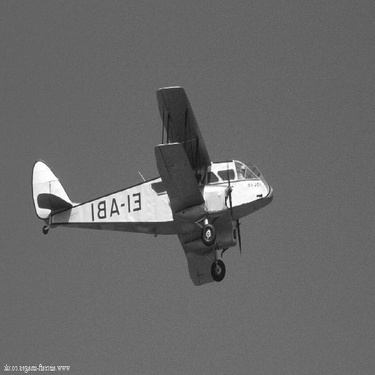airplane: (24, 79, 279, 290)
